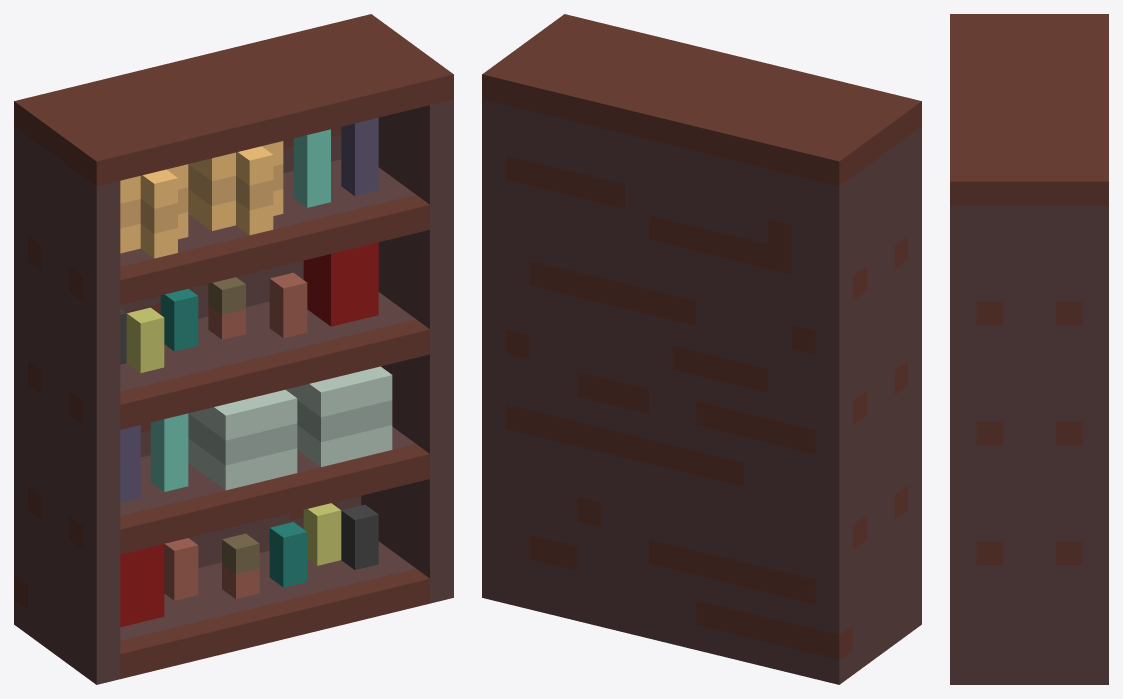
Rendered from Boat_Booth-22-Shelf_Mounted.obj.
The picture shows the model from 3 angles, left to right: view 1: azimuth 30°, elevation 25°; view 2: azimuth 150°, elevation 25°; view 3: azimuth 270°, elevation 25°; orthographic projection. The views are drawn at different scales.
Parts seen in each view (by area): view 1: Shelf_Mounted; view 2: Shelf_Mounted; view 3: Shelf_Mounted.
Part boxes in pixels (box(x1,y1,x2,y2)): Shelf_Mounted: box(14, 14, 453, 684); Shelf_Mounted: box(482, 14, 921, 684); Shelf_Mounted: box(950, 14, 1108, 684).
Bounding box in the file's own units: 0.3 × 0.42 × 0.12.
1 material, 1 textured.
